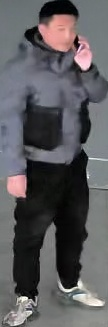phone: (40, 1, 104, 103)
